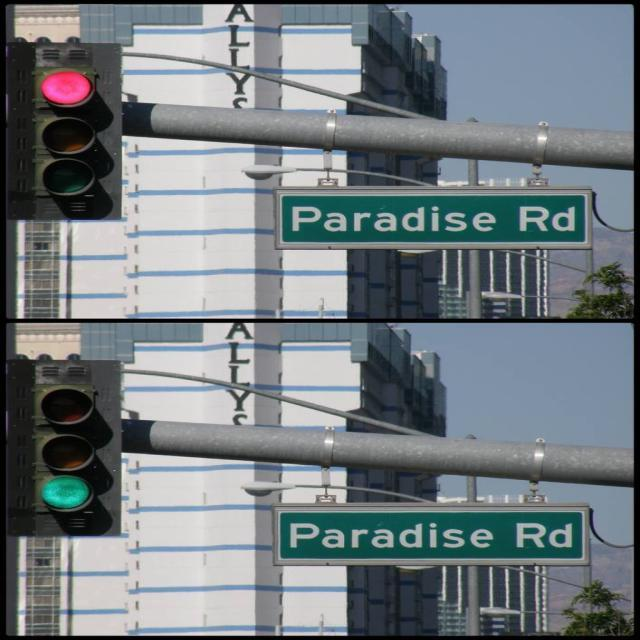traffic light: (6, 356, 126, 535), (21, 42, 122, 204)
